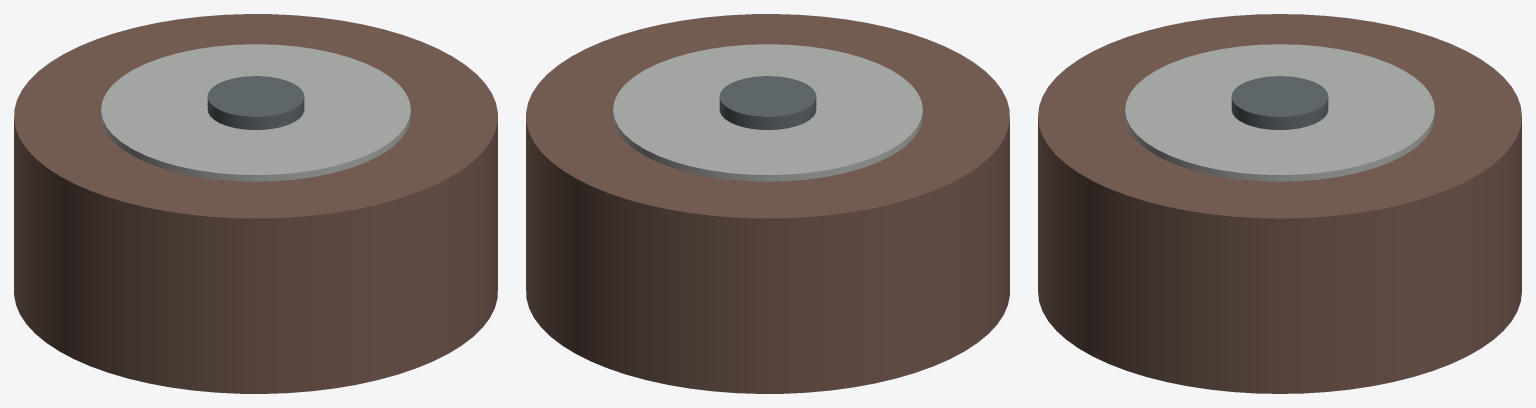
File: bl_caster_wheel_link.obj
3 views of the same model, side by side, from view 1: azimuth 30°, elevation 25°; view 2: azimuth 150°, elevation 25°; view 3: azimuth 270°, elevation 25° (orthographic).
Visible parts, largest first — view 1: bl_caster_wheel_link_tyre, bl_caster_wheel_link_hub, bl_caster_wheel_link_axle_1; view 2: bl_caster_wheel_link_tyre, bl_caster_wheel_link_hub, bl_caster_wheel_link_axle_1; view 3: bl_caster_wheel_link_tyre, bl_caster_wheel_link_hub, bl_caster_wheel_link_axle_1.
Part boxes in pixels (x1,y1,x2,y2): bl_caster_wheel_link_tyre: (14,14,497,393); bl_caster_wheel_link_hub: (101,44,410,181); bl_caster_wheel_link_axle_1: (207,76,304,129); bl_caster_wheel_link_tyre: (526,14,1009,393); bl_caster_wheel_link_hub: (613,44,922,181); bl_caster_wheel_link_axle_1: (719,76,816,129); bl_caster_wheel_link_tyre: (1038,14,1521,393); bl_caster_wheel_link_hub: (1125,44,1434,181); bl_caster_wheel_link_axle_1: (1231,76,1328,129).
Bounding box in the file's own units: 0.1 × 0.049 × 0.1.
